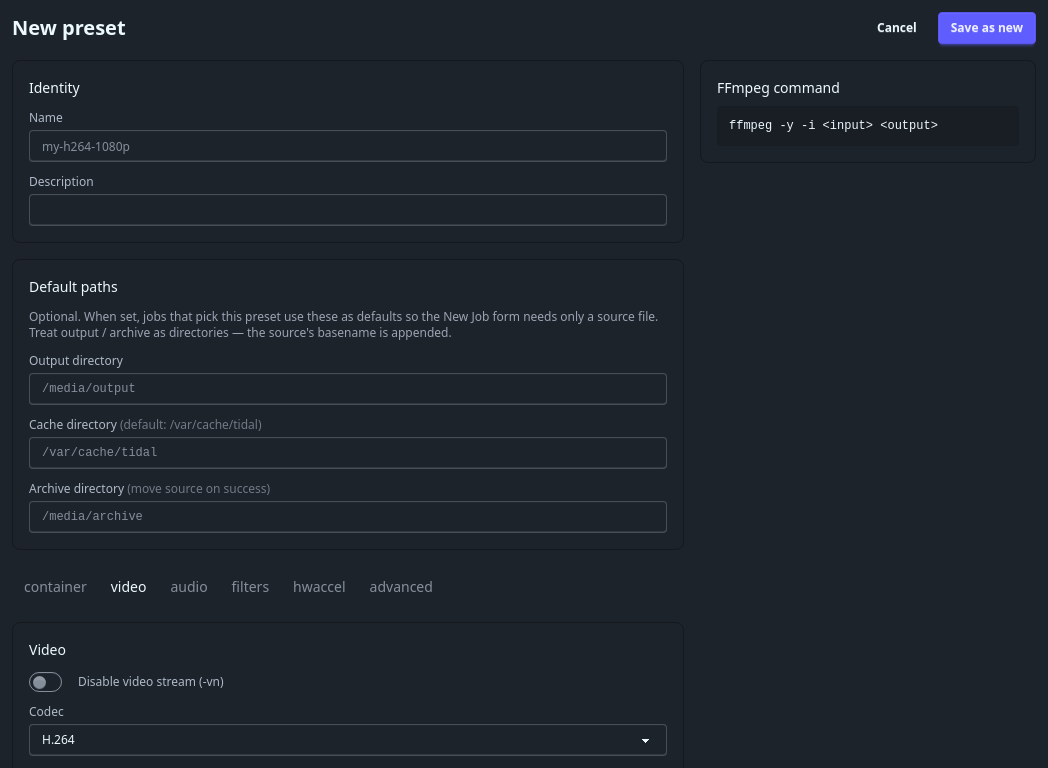
Test: PresetEditorView › Container tab swaps format
The image size is (1048, 768).
Click the tab "container" at (55, 586), box [12,566,99,606]
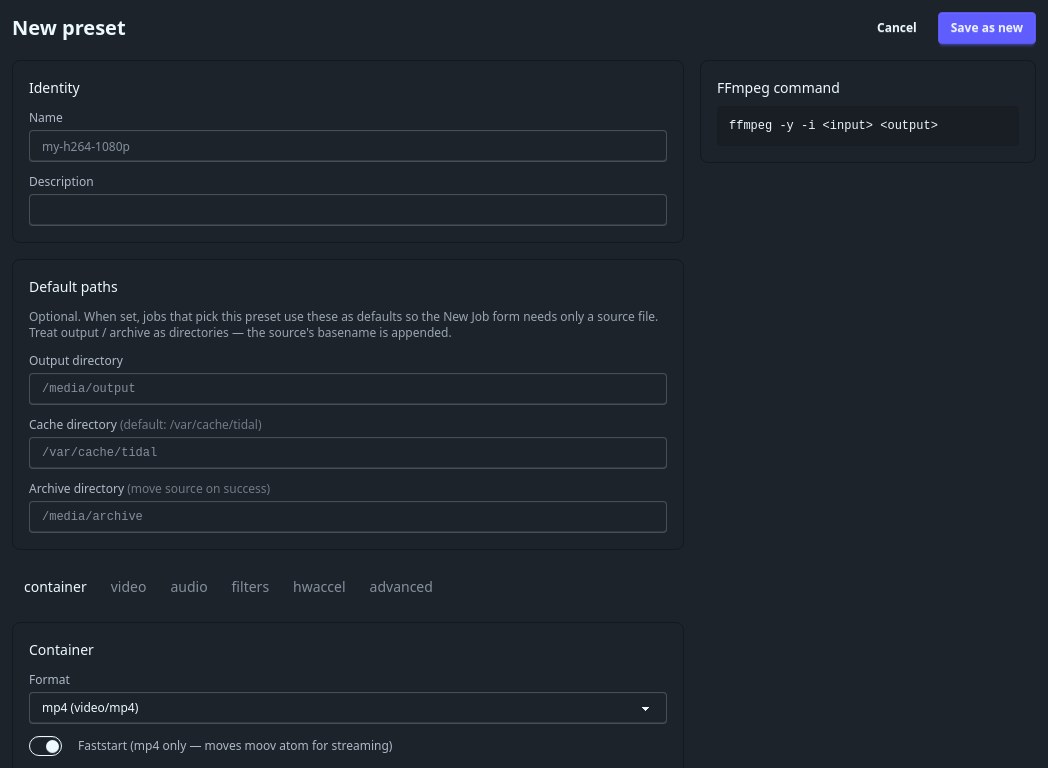
Now the text "Faststart" is shown, box [78,737,392,754]
